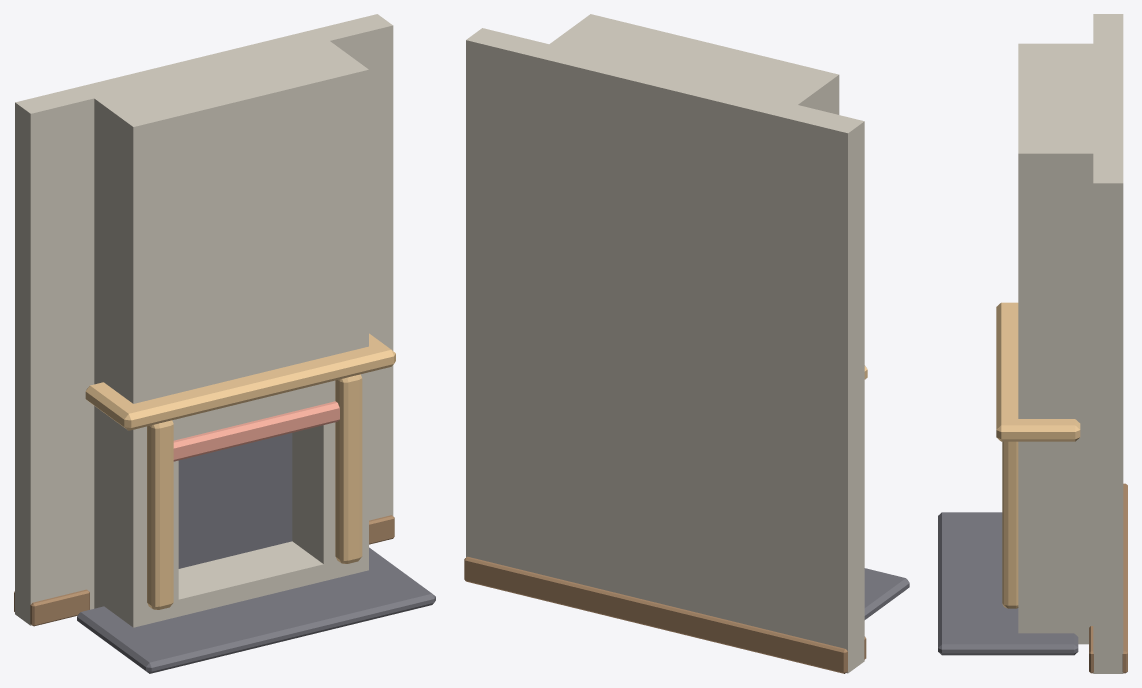
Rendered from cozy-home-interiors-wall-fireplace-2m-09f05ce0.glb.
3 views of the same model, side by side, from view 1: azimuth 30°, elevation 25°; view 2: azimuth 150°, elevation 25°; view 3: azimuth 270°, elevation 25° (orthographic). The views are drawn at different scales.
Visible parts, largest first — view 1: wall-fireplace-2m; view 2: wall-fireplace-2m; view 3: wall-fireplace-2m.
Boxes of the visible parts, x1=… form: wall-fireplace-2m: x1=14, y1=14, x2=435, y2=673; wall-fireplace-2m: x1=464, y1=14, x2=909, y2=673; wall-fireplace-2m: x1=938, y1=14, x2=1127, y2=673.
Bounding box in the file's own units: 2 × 2.7 × 0.9476.
